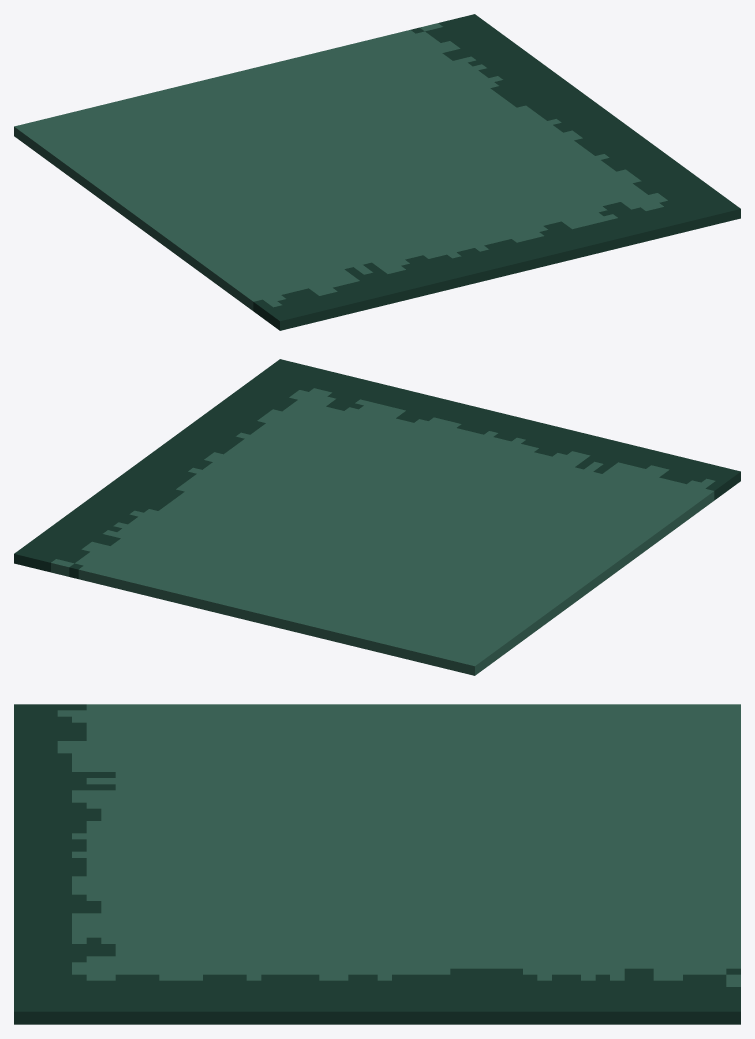
The model's file is 2WallGround.obj.
3 renders of one model, top to bottom at view 1: azimuth 30°, elevation 25°; view 2: azimuth 150°, elevation 25°; view 3: azimuth 270°, elevation 25°, orthographic. The views are drawn at different scales.
Bounding box in the file's own units: 5 × 0.1 × 5.
Materials: 1 (1 with a texture image).
